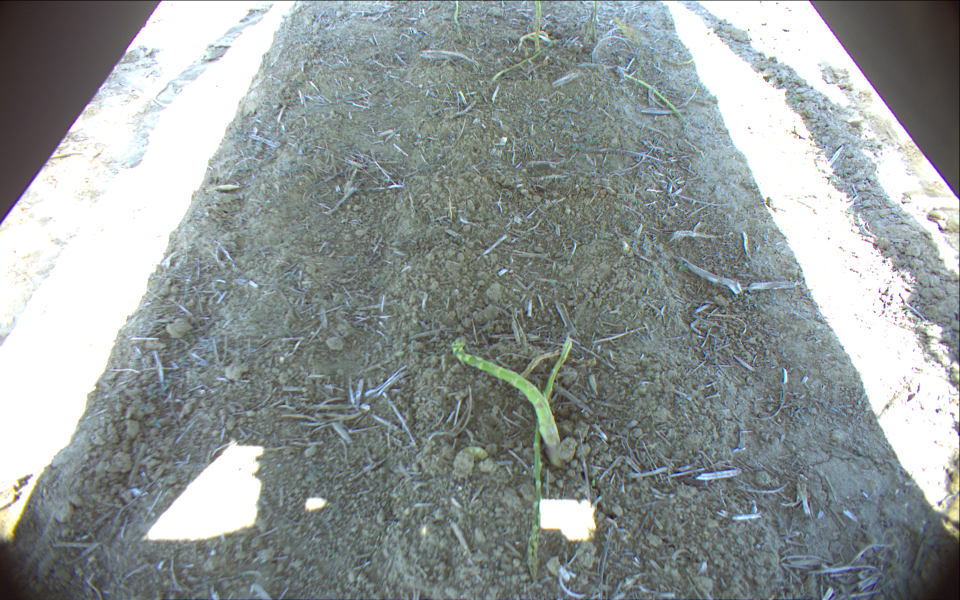aspa: (451, 335, 565, 452), (523, 336, 573, 579), (615, 68, 690, 129), (531, 1, 543, 53), (579, 12, 594, 46), (592, 1, 602, 48), (453, 1, 464, 37)
